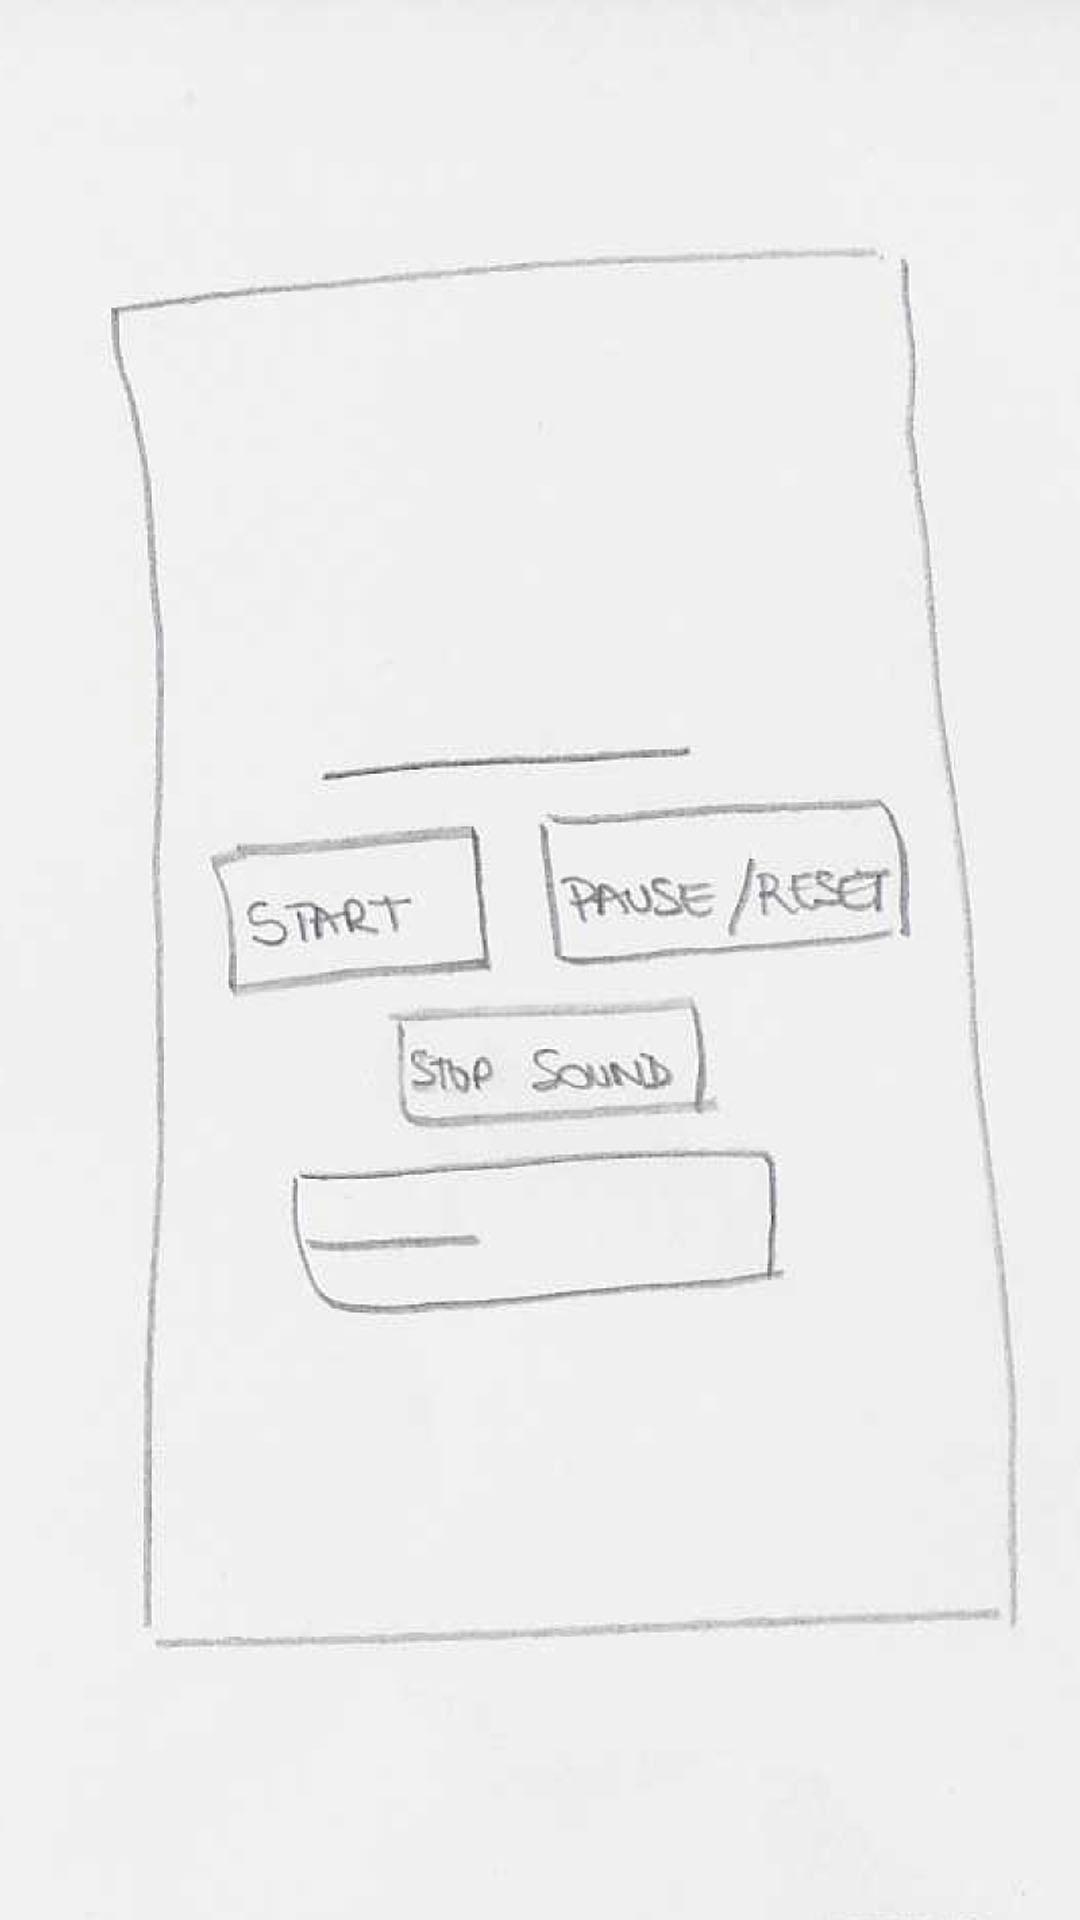Button: (538, 802, 910, 965), (214, 828, 495, 994), (390, 996, 707, 1125)
Label: (322, 742, 695, 786)
Screen: (111, 248, 1019, 1647)
TextBox: (290, 1147, 778, 1315)
